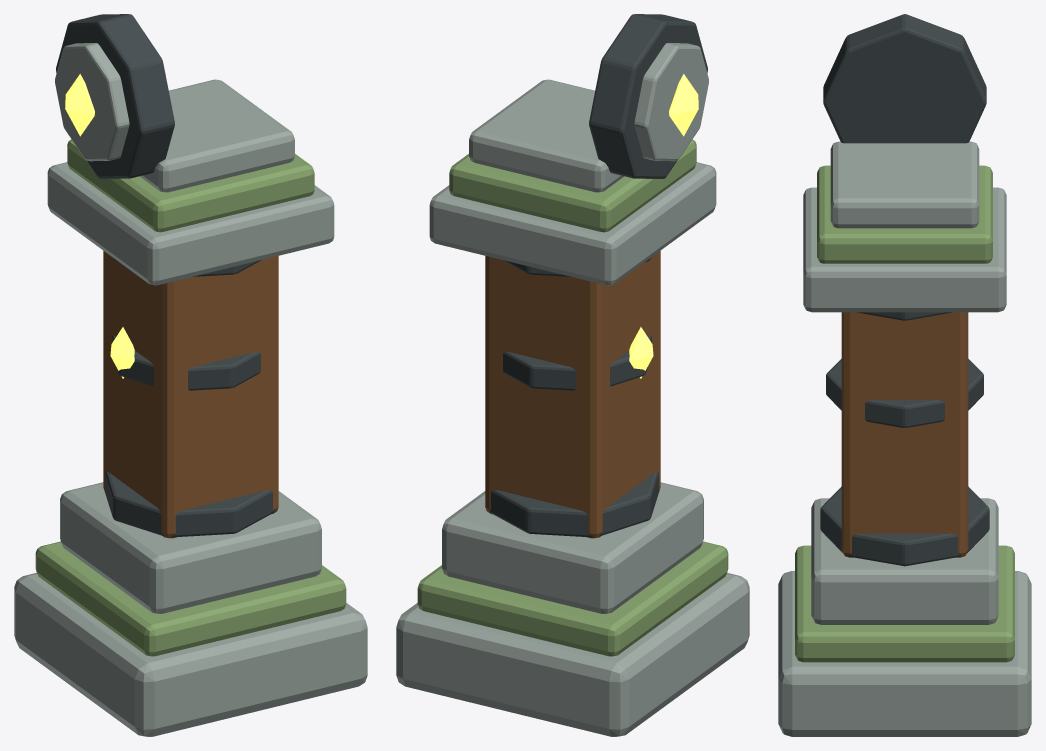
Rendered from SM_EmbermereBoundaryStone_01.fbx.
3 renders of one model, left to right at view 1: azimuth 30°, elevation 25°; view 2: azimuth 150°, elevation 25°; view 3: azimuth 270°, elevation 25°, orthographic. The views are drawn at different scales.
Visible parts, largest first — view 1: SM_EmbermereBoundaryStone_01; view 2: SM_EmbermereBoundaryStone_01; view 3: SM_EmbermereBoundaryStone_01.
Boxes of the visible parts, x1,y1,x2,y2 form: SM_EmbermereBoundaryStone_01: (14, 14, 367, 736); SM_EmbermereBoundaryStone_01: (396, 14, 749, 736); SM_EmbermereBoundaryStone_01: (778, 14, 1031, 736).
Size of what is drawn, in the model's own units: 96 by 92 by 254.
